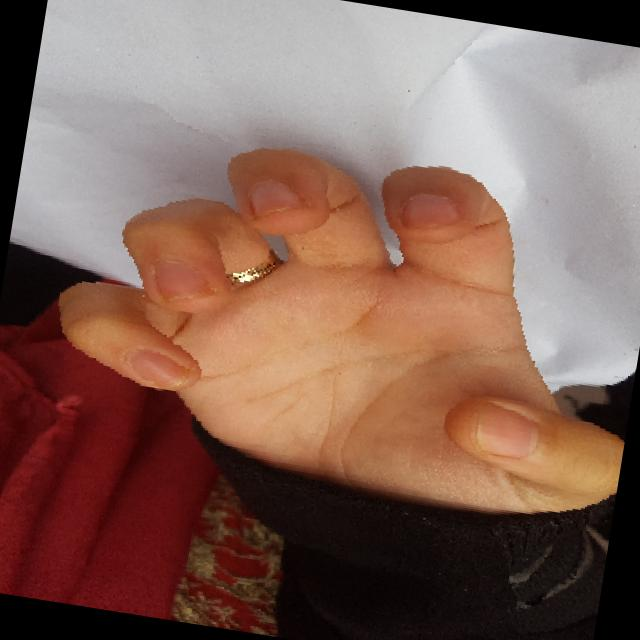Nail: (475, 406, 538, 457), (248, 179, 302, 217), (129, 351, 186, 387), (155, 261, 210, 298), (400, 192, 458, 227)
